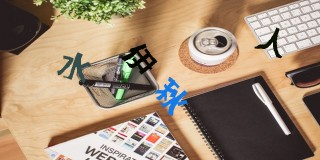人: (254, 28, 282, 58)
伊: (120, 44, 157, 75)
水: (57, 52, 89, 80)
秋: (155, 76, 187, 115)
